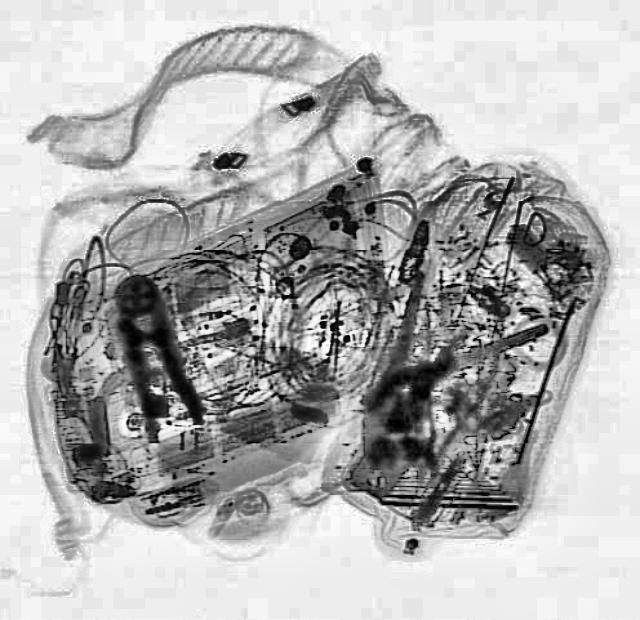Pliers: (98, 268, 202, 433)
